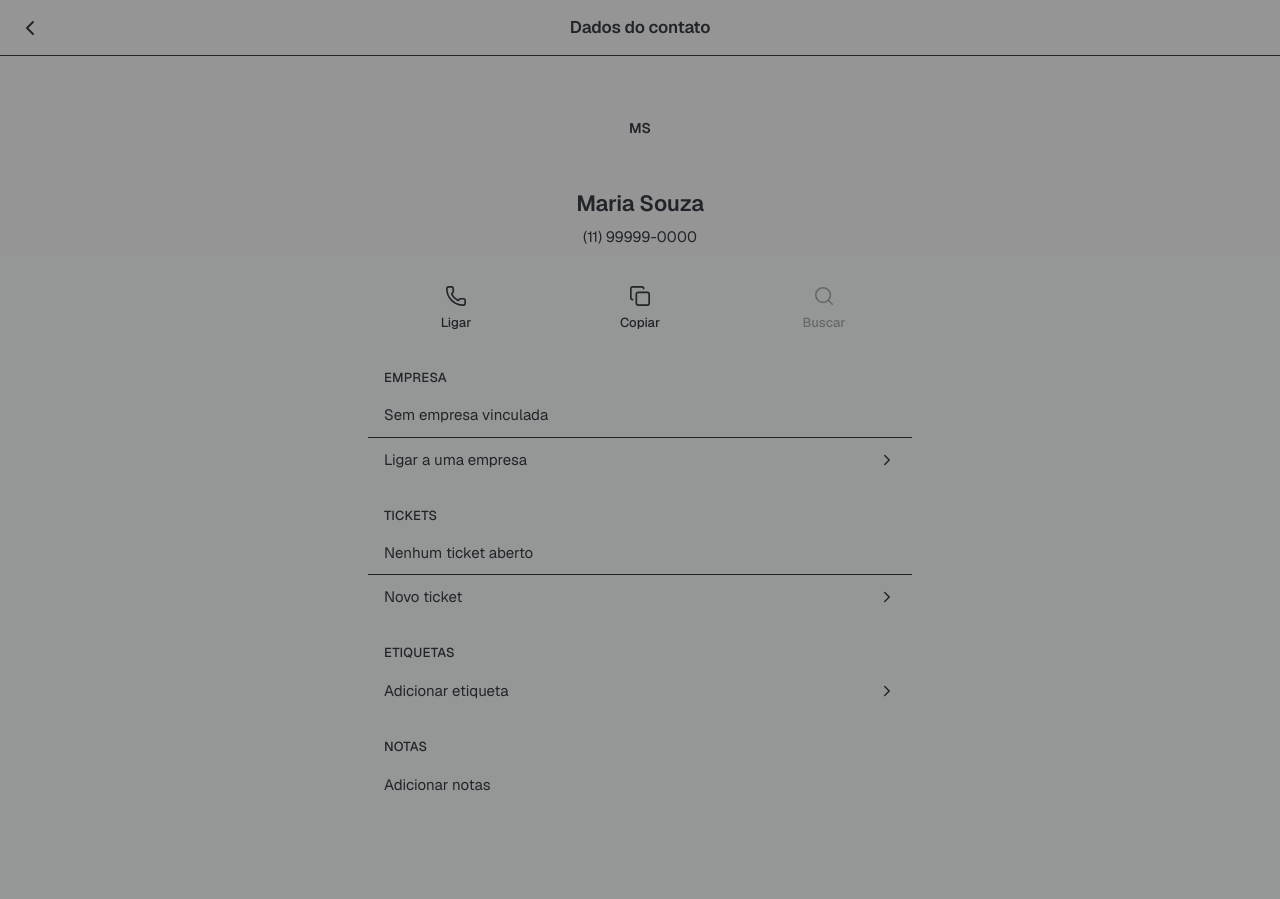
Test: ContactInfoSheet · tickets › abrir ticket pelo grupo volta para os dados do contato e relê os tickets
The image size is (1280, 899).
Expected: the text "Nenhum ticket aberto" is shown, [384,542,533,564]
Click the button "Novo ticket".
click(423, 596)  # box [368,575,912,619]
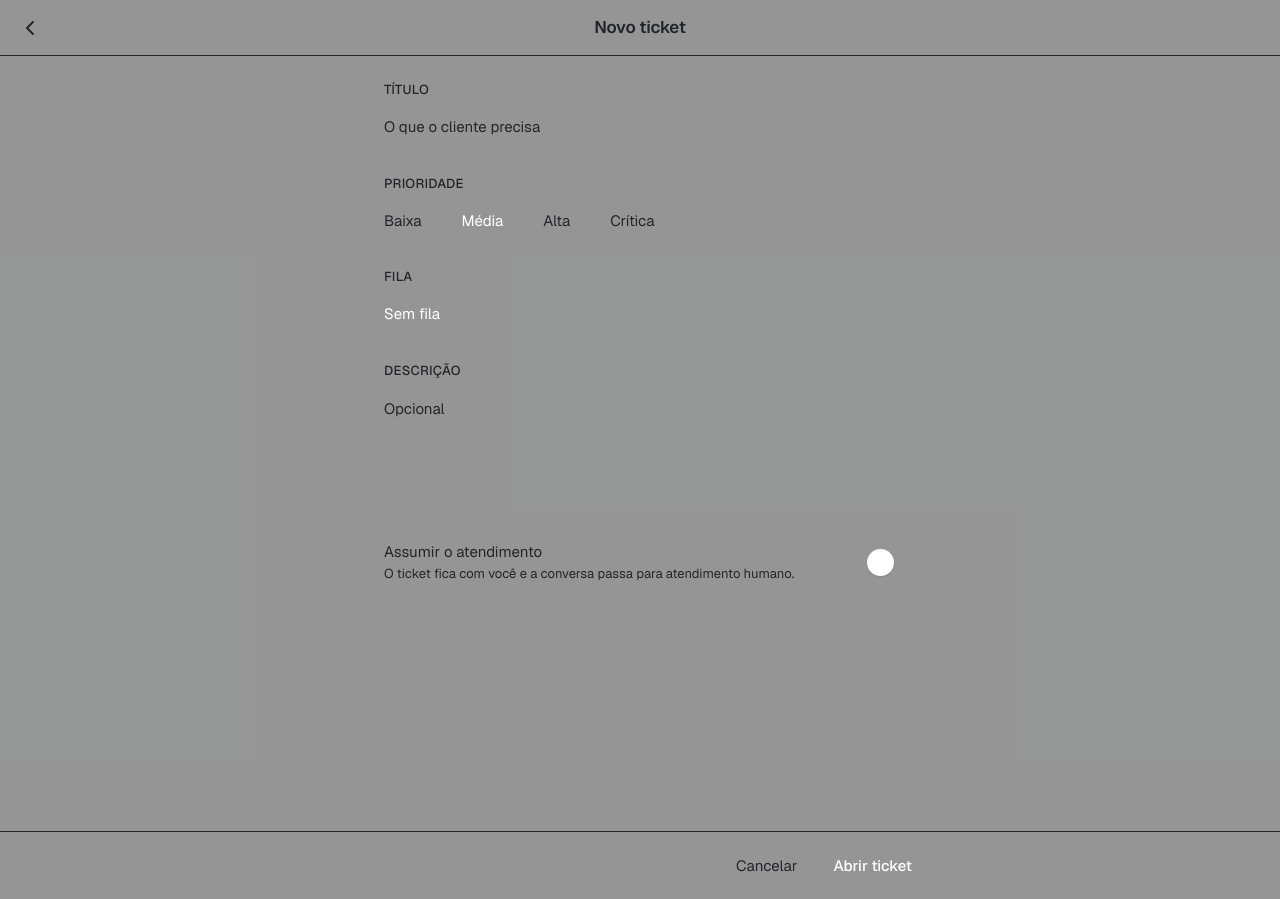
Expected: the heading "Novo ticket" is shown, [594,16,686,38]
Type "Erro ao emitir nota" into the field labelled "Título".
click(640, 128); type("Erro ao emitir nota")  # box [368,106,912,150]
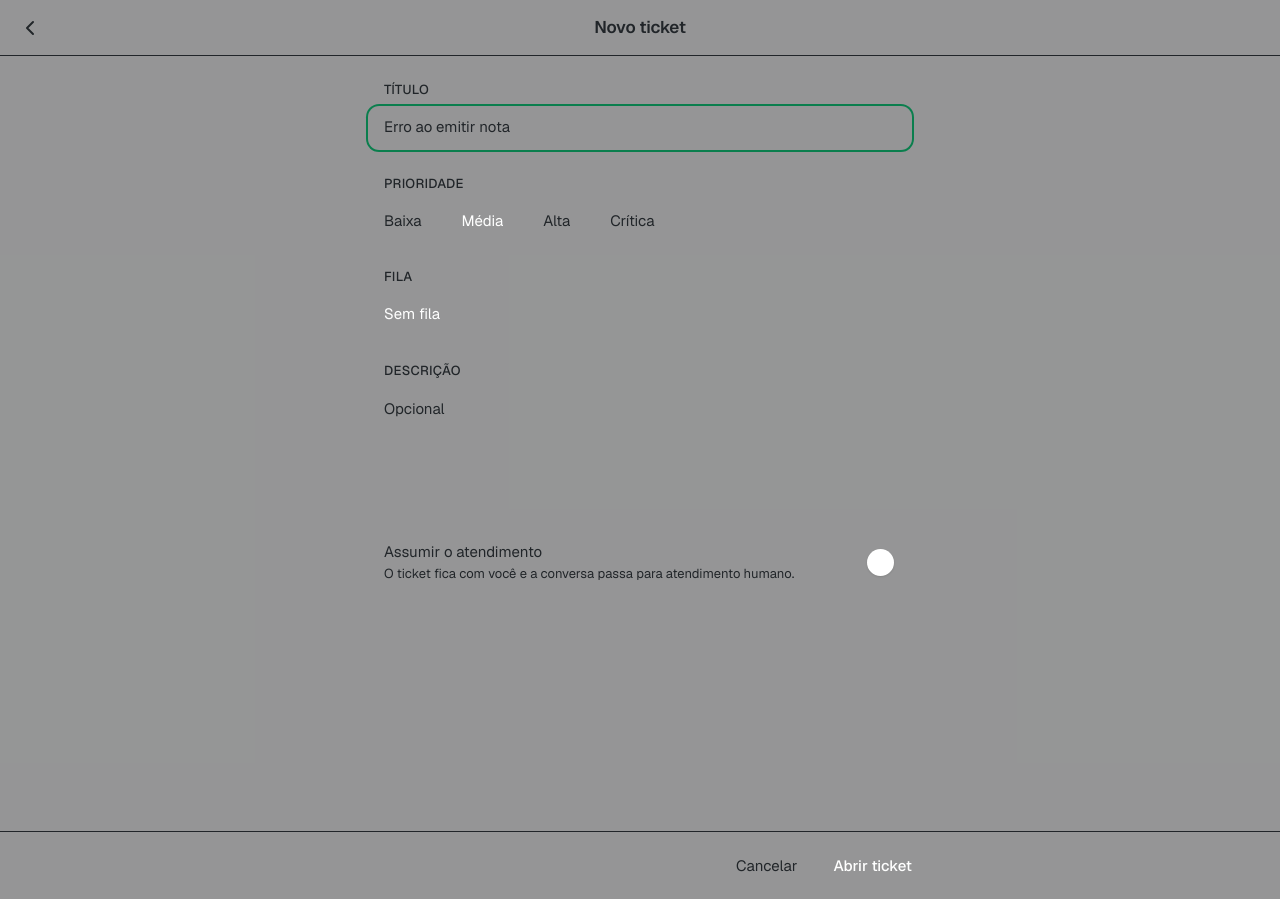
Click the button "Abrir ticket".
click(873, 866)  # box [818,844,928,888]
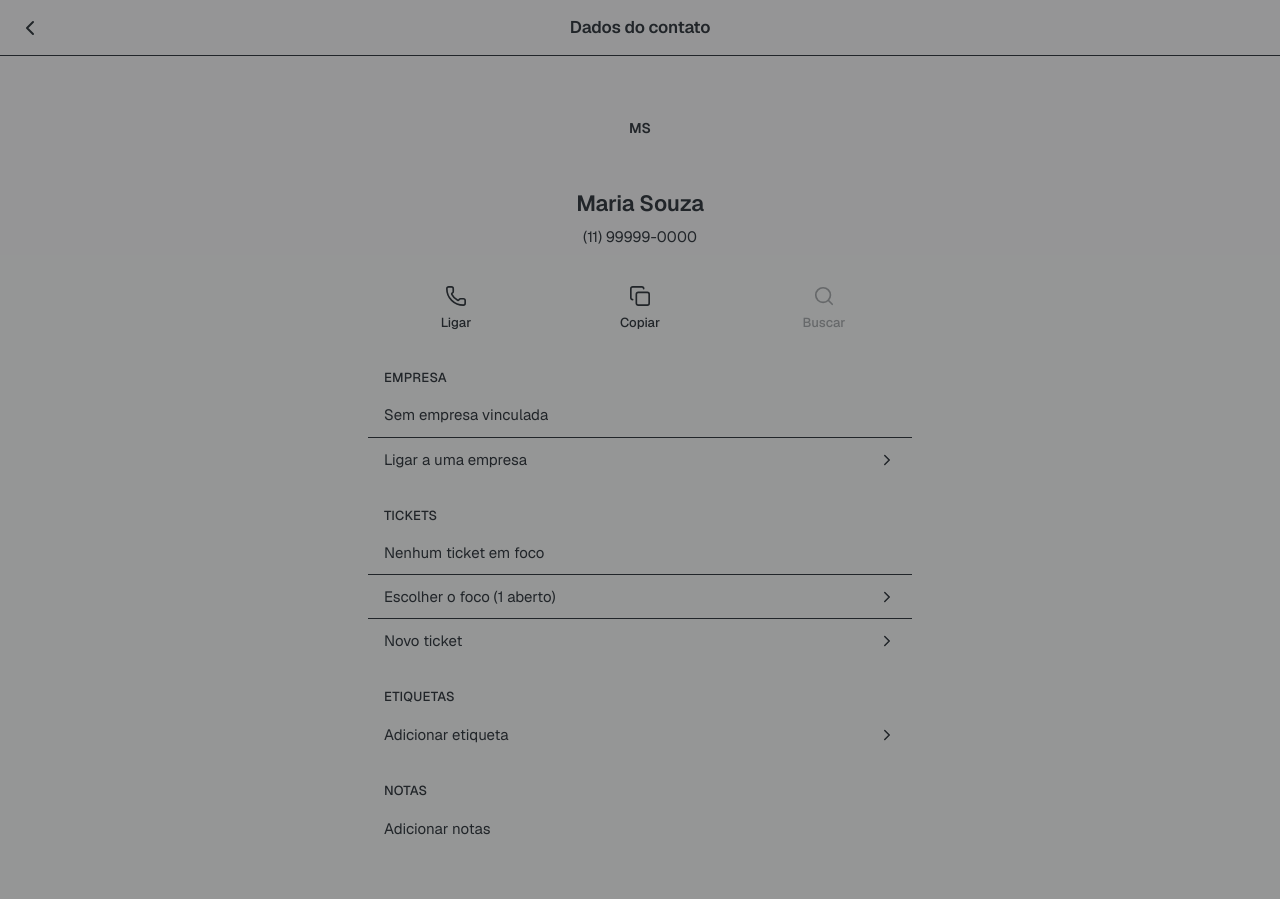
Expected: the heading "Dados do contato" is shown, [570,16,710,38]
